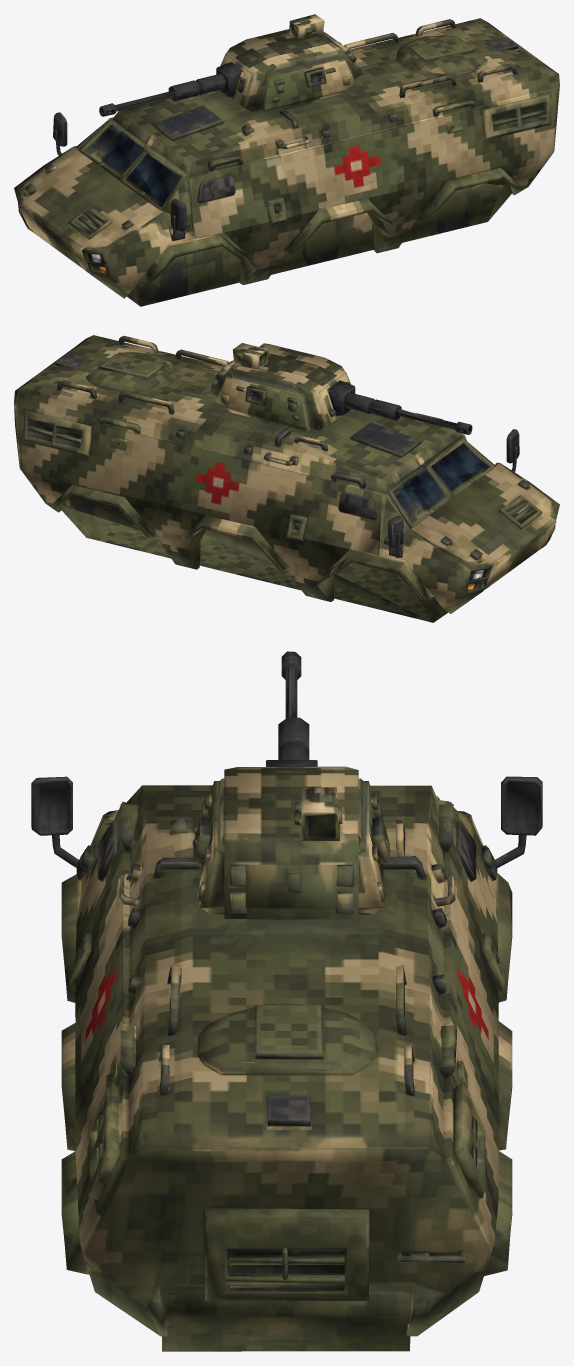
Rendered from tank_assembled.fbx.
3 renders of one model, top to bottom at view 1: azimuth 30°, elevation 25°; view 2: azimuth 150°, elevation 25°; view 3: azimuth 270°, elevation 25°, orthographic. The views are drawn at different scales.
Visible parts, largest first — view 1: Tank_Hull, Tank_Turret; view 2: Tank_Hull, Tank_Turret; view 3: Tank_Hull, Tank_Turret.
Part boxes in pixels (box(x1,y1,x2,y2)): Tank_Hull: box(14, 18, 559, 306); Tank_Turret: box(99, 14, 362, 116); Tank_Hull: box(14, 335, 559, 622); Tank_Turret: box(208, 343, 472, 434); Tank_Hull: box(31, 776, 542, 1351); Tank_Turret: box(193, 651, 389, 919).
Bounding box in the file's own units: 0.9536 × 0.3999 × 0.4438.
